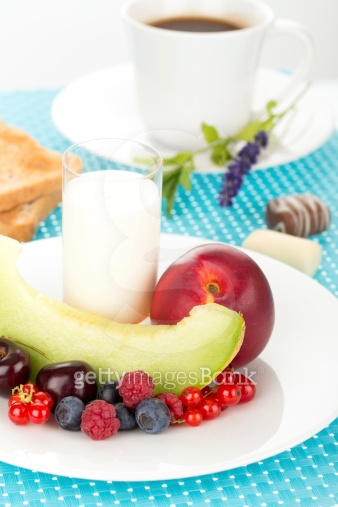glass of milk: (56, 136, 157, 336)
slice of bread: (1, 117, 91, 253)
